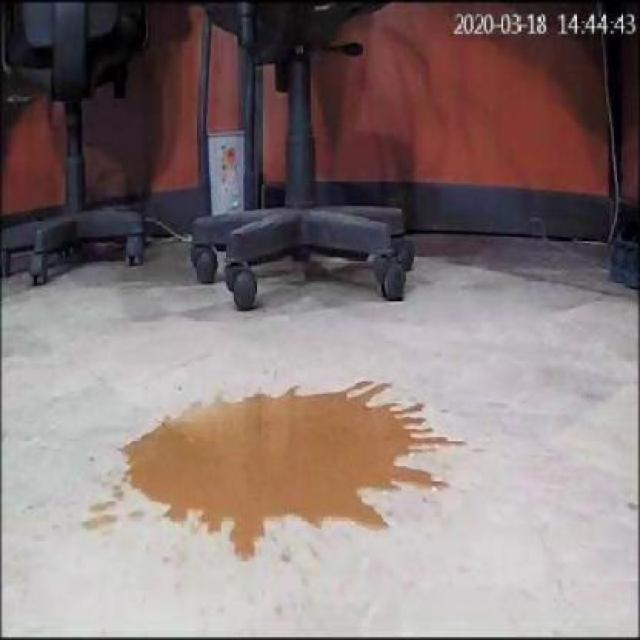spillage: (116, 380, 459, 559)
